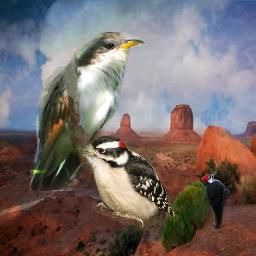Cuckoo: (30, 32, 145, 191)
Woodpecker: (70, 136, 178, 231), (200, 171, 232, 229)
